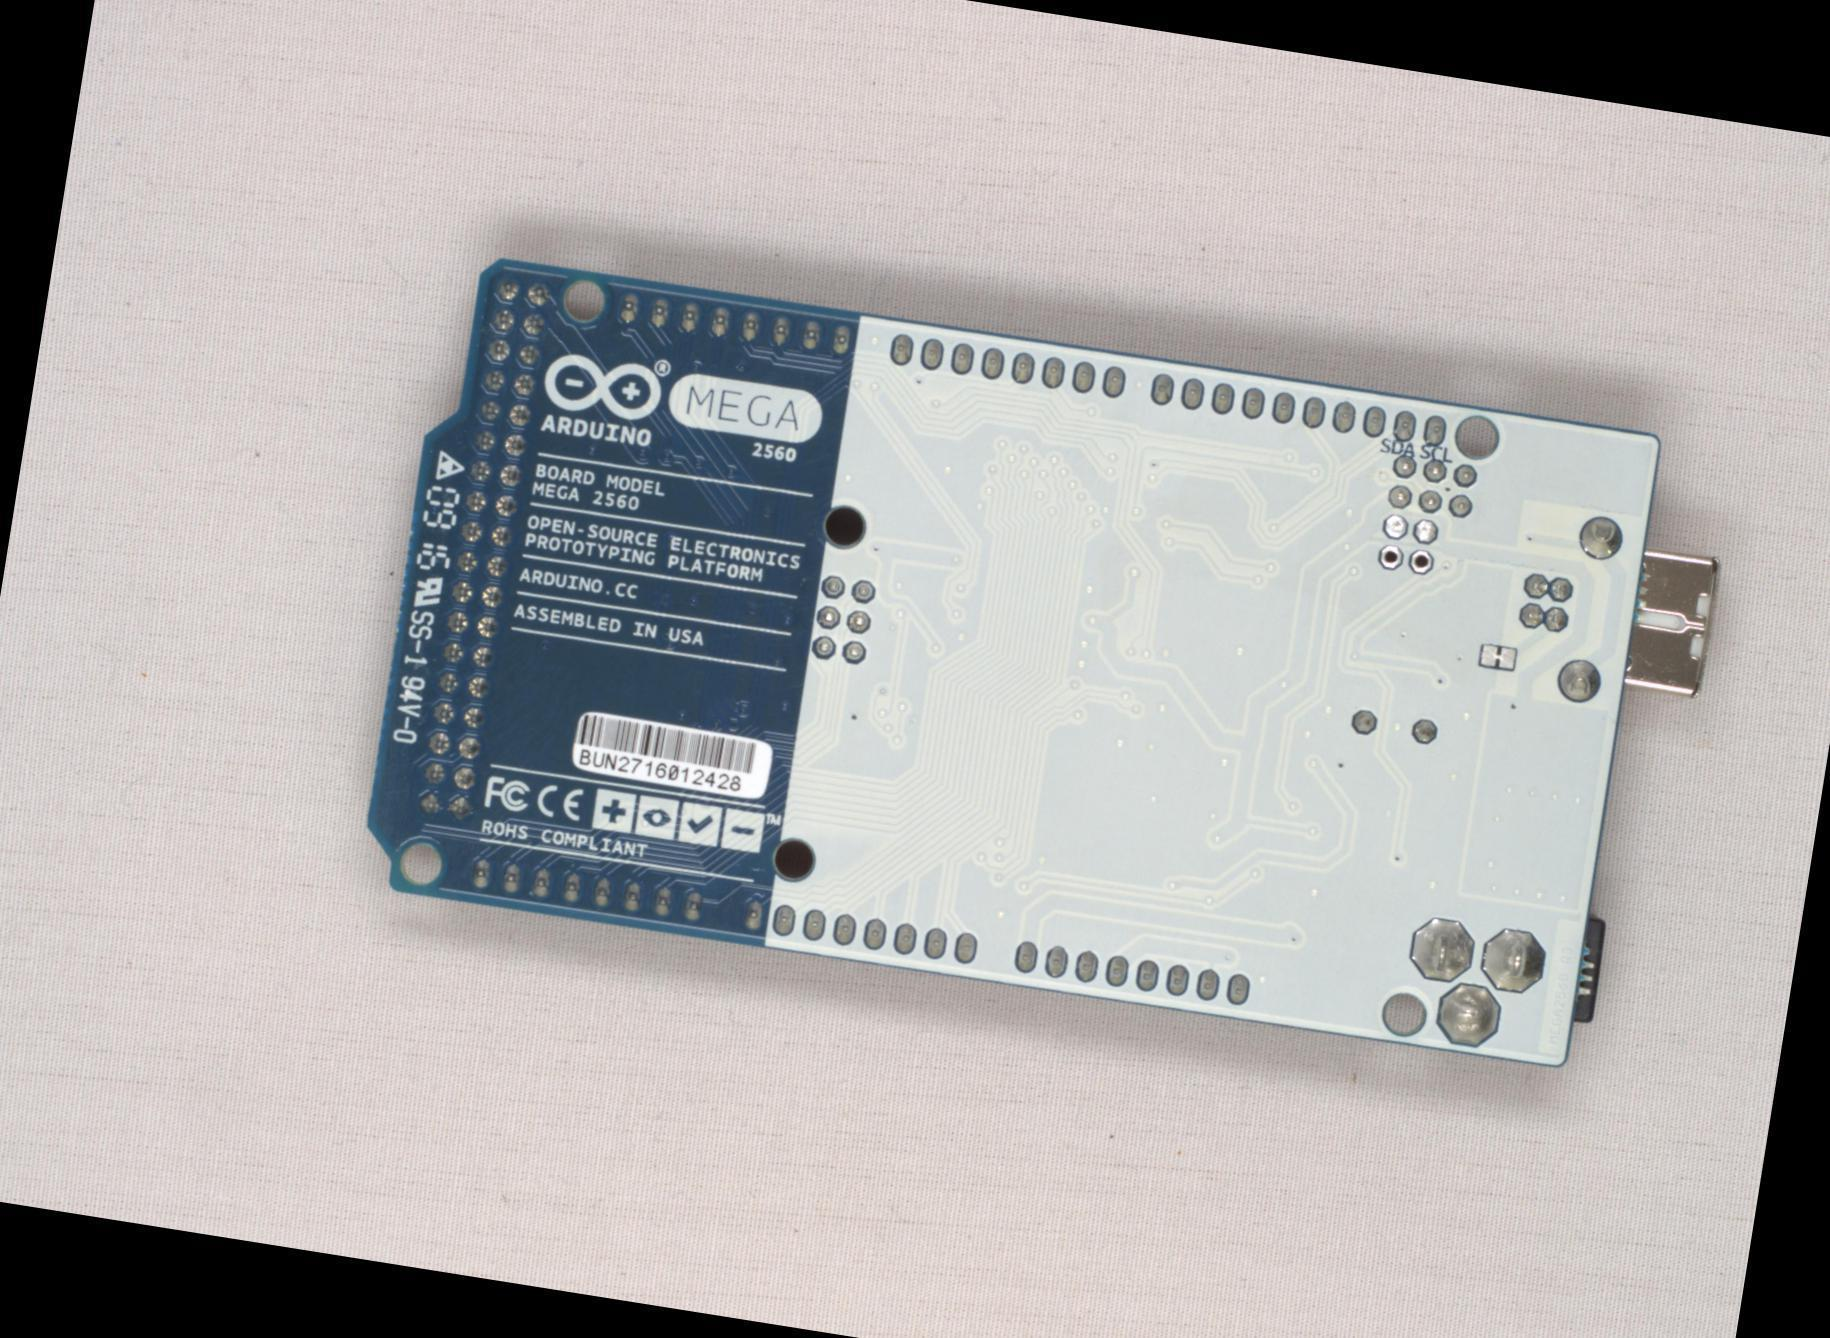Connector: (1619, 547, 1721, 696), (1370, 541, 1440, 580)
Pads: (1474, 639, 1519, 671)
Pins: (411, 270, 558, 825), (1393, 910, 1555, 1059), (1148, 367, 1449, 447), (1010, 934, 1257, 1009), (883, 328, 1132, 402), (467, 852, 707, 928), (737, 896, 982, 968), (615, 287, 858, 359), (1554, 507, 1629, 706), (807, 569, 882, 668), (1385, 453, 1479, 521), (1510, 569, 1579, 643), (1344, 705, 1441, 748), (1373, 508, 1449, 548)
